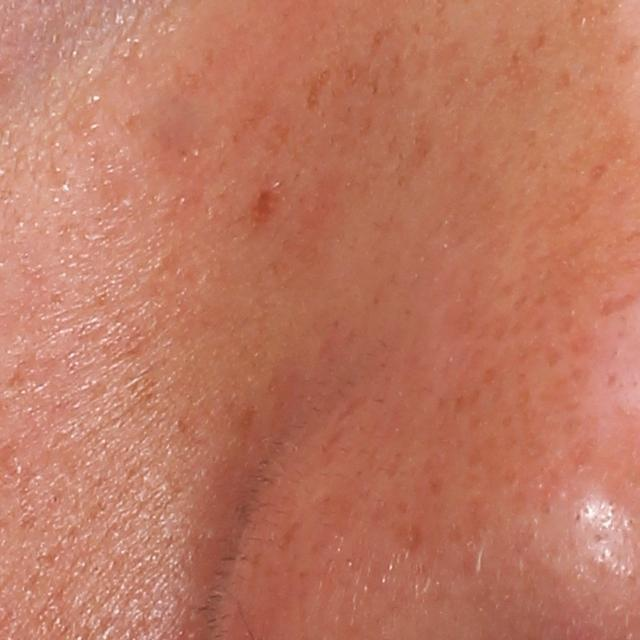melasma: (344, 22, 406, 90), (243, 182, 287, 233), (305, 66, 332, 114)
